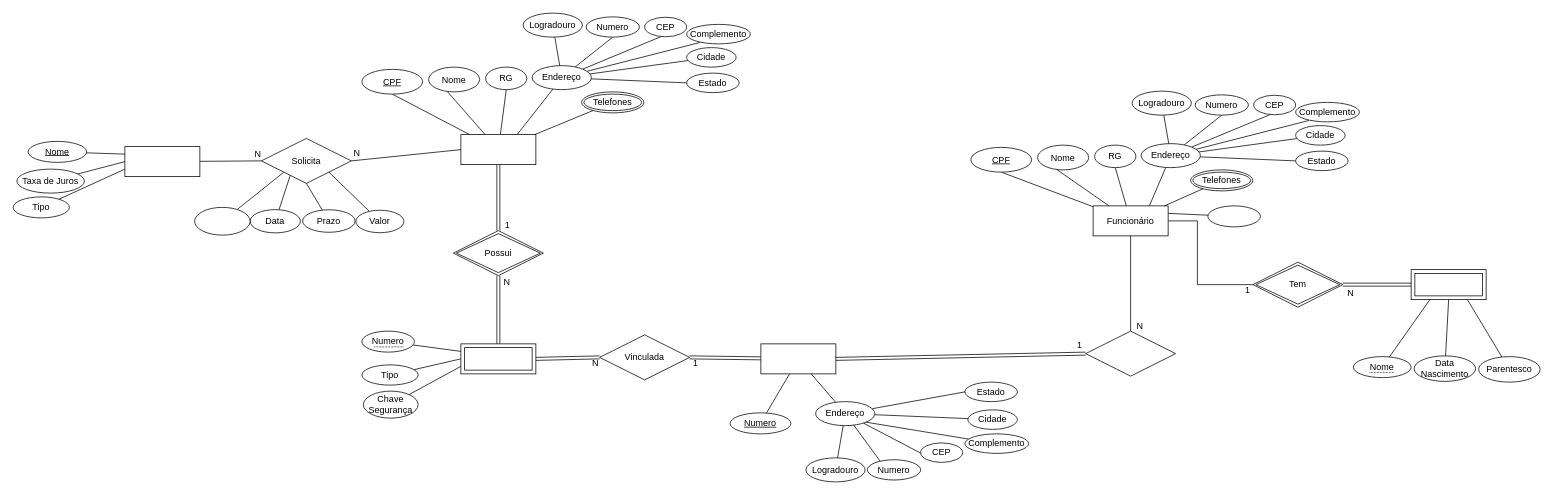
This 1553x495 diagram has some shape labels left out. The shapes that lost their labels are listed below. From the top down, each one's box as (x1, y1, x2, y2) in pixels, then its label:
(124, 146, 200, 177): Emprestimo
(460, 134, 536, 165): Cliente
(194, 207, 250, 235): Setor Aprovador
(1207, 205, 1260, 227): Salário
(1410, 269, 1486, 300): Dependente
(460, 343, 536, 374): Conta
(760, 343, 836, 374): Agencia
(1085, 330, 1176, 376): Gerencia
